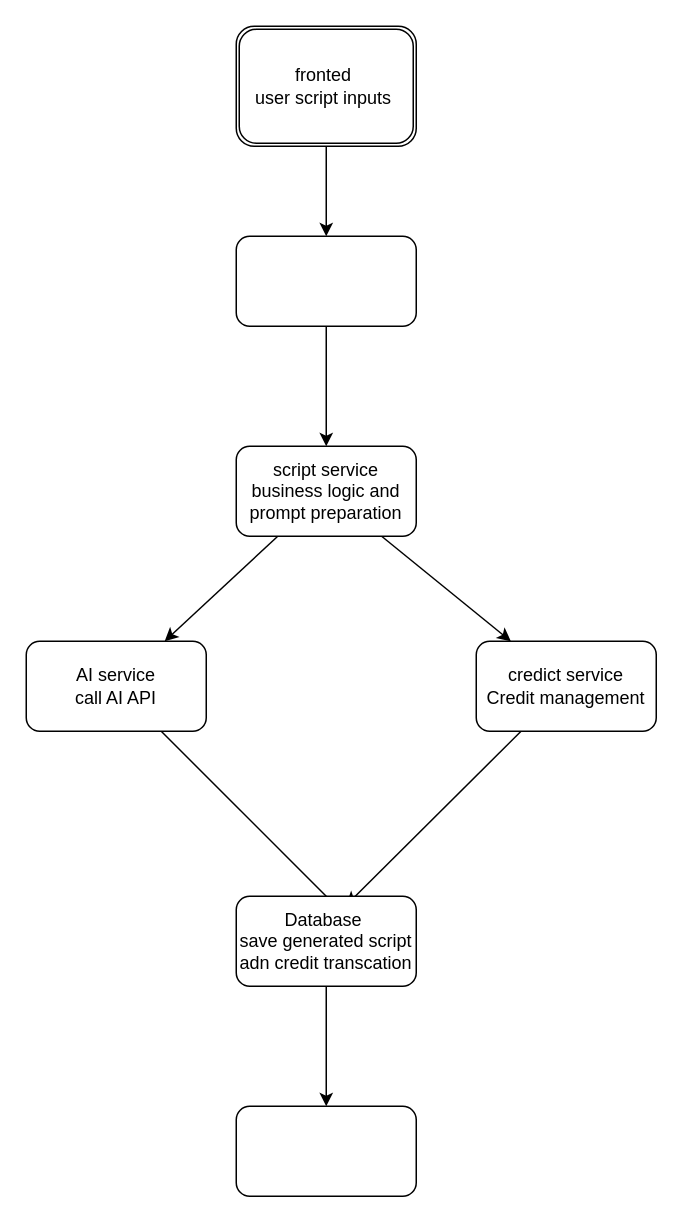
Some shapes in this 683 by 1223 pixel diagram are drawn without their labels. The centre of each missing label's shape, as x and y in pixels:
laravel script contr4oller receive request and validate: (x=325, y=280)
return result to fronted: (x=325, y=1150)
